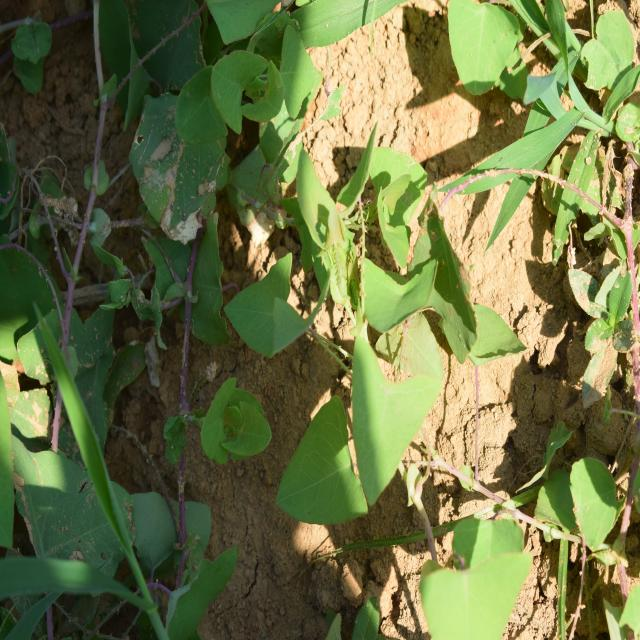Asiatic_Smartweed: (228, 239, 454, 510)
